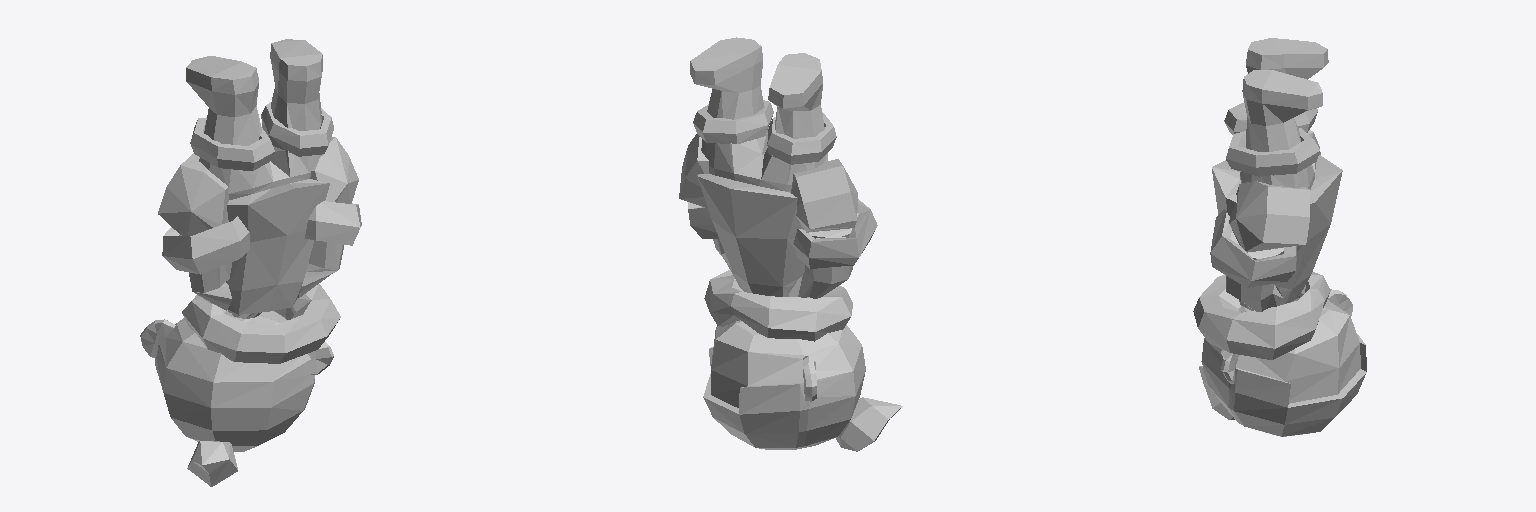
File: eikastanding_000236.obj
The picture shows the model from 3 angles: view 1: azimuth 30°, elevation 25°; view 2: azimuth 150°, elevation 25°; view 3: azimuth 270°, elevation 25°; orthographic projection.
Parts seen in each view (by area): view 1: Cylinder; view 2: Cylinder; view 3: Cylinder.
Part boxes in pixels (bbox=[...]): Cylinder: bbox=[140, 39, 361, 486]; Cylinder: bbox=[679, 37, 902, 451]; Cylinder: bbox=[1193, 38, 1366, 436].
Size of the model in its own units: 26.77 by 53.24 by 21.27.